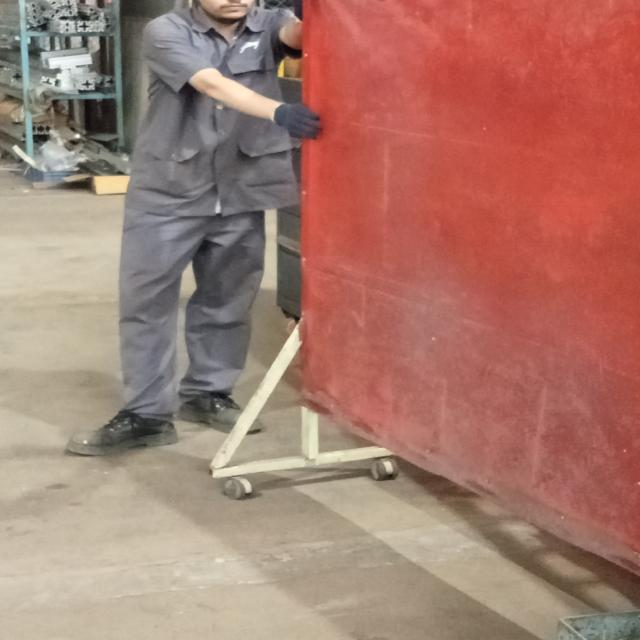Gloves-Detection: (271, 103, 322, 139)
